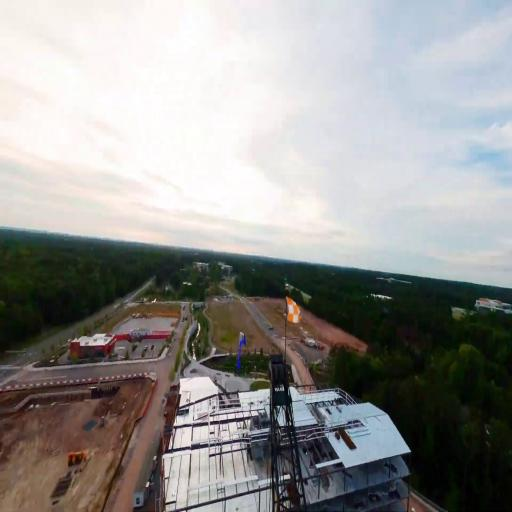uav: (231, 324, 252, 375)
